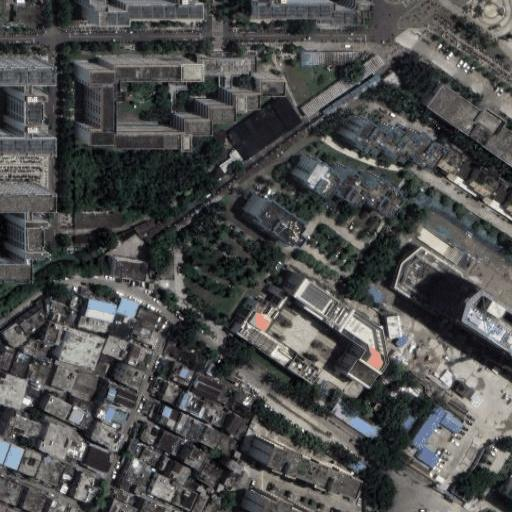building: (68, 58, 268, 153), (173, 115, 325, 230), (292, 280, 389, 391), (237, 295, 322, 383), (427, 86, 512, 167), (435, 271, 512, 355), (219, 88, 303, 163), (247, 435, 345, 494), (0, 60, 44, 154), (0, 184, 43, 278), (394, 248, 456, 312), (71, 0, 190, 27), (242, 0, 363, 25), (240, 189, 294, 242), (322, 75, 381, 117), (453, 159, 504, 206), (350, 166, 396, 210), (58, 328, 105, 370), (330, 400, 382, 437), (196, 51, 247, 87), (151, 475, 198, 512), (293, 148, 334, 190), (409, 223, 452, 260), (240, 489, 309, 512), (411, 406, 445, 451), (39, 421, 77, 460), (435, 142, 471, 183), (323, 161, 360, 198), (120, 458, 155, 497), (68, 206, 126, 229), (373, 116, 408, 154), (394, 126, 430, 162), (296, 46, 355, 67), (165, 335, 203, 367), (352, 113, 389, 144), (49, 358, 81, 393), (96, 397, 130, 429), (91, 422, 126, 452), (83, 444, 117, 474), (71, 366, 100, 401), (7, 408, 44, 435), (105, 384, 142, 410), (131, 317, 163, 347), (488, 182, 512, 222), (191, 374, 224, 403), (35, 457, 66, 486), (112, 258, 150, 281), (195, 459, 225, 488), (3, 424, 38, 448), (153, 246, 175, 281), (25, 356, 52, 384), (334, 109, 360, 138), (64, 405, 93, 431), (17, 448, 43, 477), (85, 299, 116, 323), (103, 334, 130, 360), (120, 366, 148, 391), (73, 473, 96, 503), (20, 311, 47, 336), (136, 308, 168, 329), (21, 379, 44, 408), (168, 362, 195, 386), (3, 322, 28, 347), (157, 406, 182, 431), (45, 396, 71, 420), (158, 431, 184, 455), (10, 350, 33, 377), (2, 443, 25, 470), (22, 488, 47, 512), (44, 320, 67, 346), (495, 470, 512, 504), (186, 419, 209, 444), (201, 404, 226, 426), (78, 315, 108, 333), (201, 427, 224, 450), (185, 447, 208, 470), (116, 297, 140, 319), (218, 382, 240, 406), (49, 302, 71, 325), (67, 438, 88, 461), (173, 415, 194, 438), (139, 447, 162, 468), (441, 414, 464, 435), (417, 446, 440, 467), (185, 397, 207, 418), (234, 388, 257, 408), (16, 6, 43, 23), (140, 424, 161, 445), (224, 411, 243, 434), (216, 435, 236, 455), (169, 463, 189, 483), (163, 383, 182, 404), (69, 395, 95, 410), (109, 499, 139, 512), (230, 403, 253, 419), (134, 220, 153, 239), (205, 360, 224, 379), (384, 72, 402, 91), (34, 339, 51, 359), (140, 500, 166, 512), (206, 495, 223, 512), (147, 222, 165, 238), (193, 494, 209, 512), (150, 377, 166, 394), (365, 287, 382, 303), (400, 416, 416, 433), (65, 308, 80, 326), (386, 316, 399, 336), (23, 339, 40, 354), (175, 393, 190, 410), (69, 295, 84, 311), (156, 455, 171, 471), (227, 460, 244, 474), (48, 500, 67, 512), (131, 346, 146, 361), (61, 465, 75, 481), (235, 423, 249, 439), (116, 491, 131, 504), (191, 483, 208, 494), (396, 335, 409, 348), (95, 361, 108, 373), (57, 481, 69, 494), (128, 356, 140, 366), (217, 484, 224, 493), (225, 478, 232, 486), (208, 486, 216, 493), (234, 451, 241, 458), (221, 508, 231, 512), (18, 0, 27, 3)
